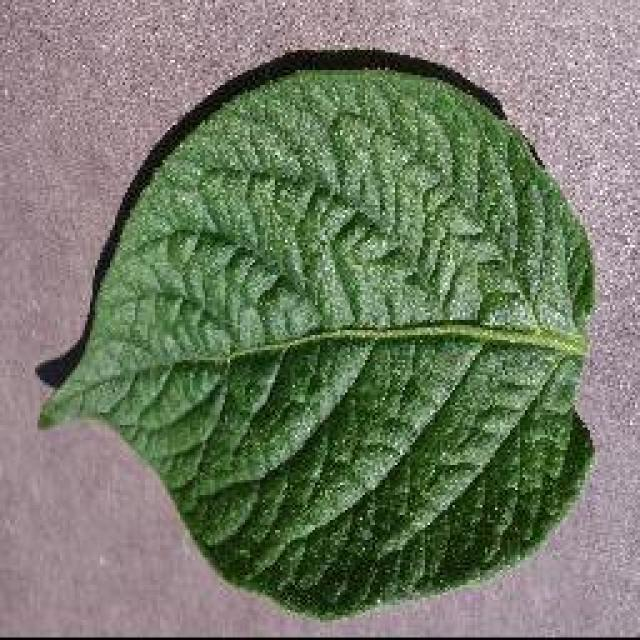Potato___healthy: (36, 68, 599, 625)
